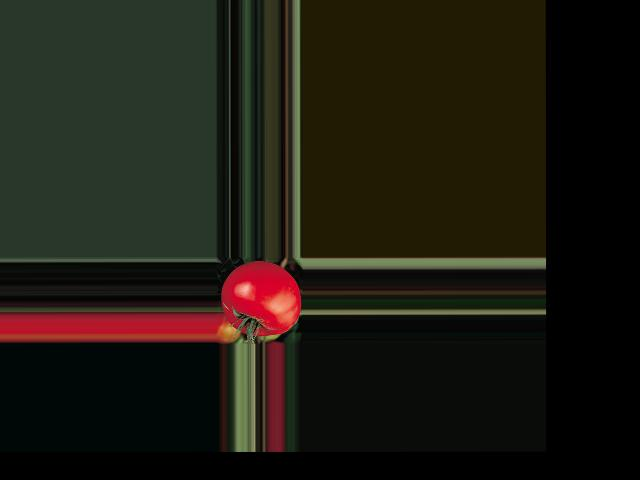tomato: (222, 260, 301, 335)
